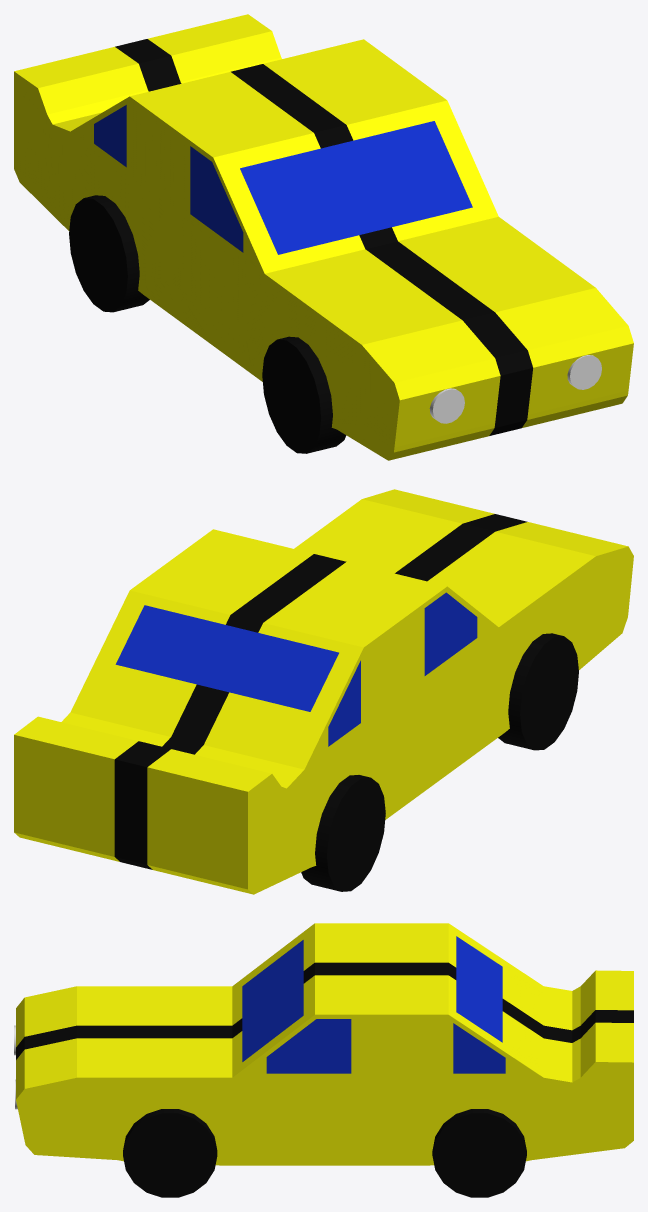
File: CarPlayerLit.FBX
3 renders of one model, top to bottom at view 1: azimuth 30°, elevation 25°; view 2: azimuth 150°, elevation 25°; view 3: azimuth 270°, elevation 25°, orthographic. The views are drawn at different scales.
Parts seen in each view (by area): view 1: Object003, Object004, Cylinder001, Cylinder003, Cylinder005, Cylinder006; view 2: Object003, Object004, Cylinder003, Cylinder001; view 3: Object003, Object004, Cylinder004, Cylinder002.
Boxes of the visible parts, x1,y1,x2,y2 form: Object003: (14, 14, 633, 460); Object004: (94, 105, 472, 254); Cylinder001: (262, 336, 346, 453); Cylinder003: (69, 195, 149, 312); Cylinder005: (429, 388, 464, 423); Cylinder006: (567, 355, 601, 389); Object003: (14, 489, 633, 894); Object004: (115, 592, 477, 746); Cylinder003: (301, 775, 385, 891); Cylinder001: (498, 633, 578, 750); Object003: (16, 923, 633, 1165); Object004: (242, 936, 505, 1073); Cylinder004: (432, 1109, 526, 1197); Cylinder002: (123, 1109, 217, 1197).
Bounding box in the file's own units: 85.65 × 70.84 × 223.
